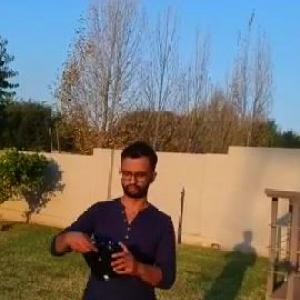follow: (43, 135, 181, 299)
